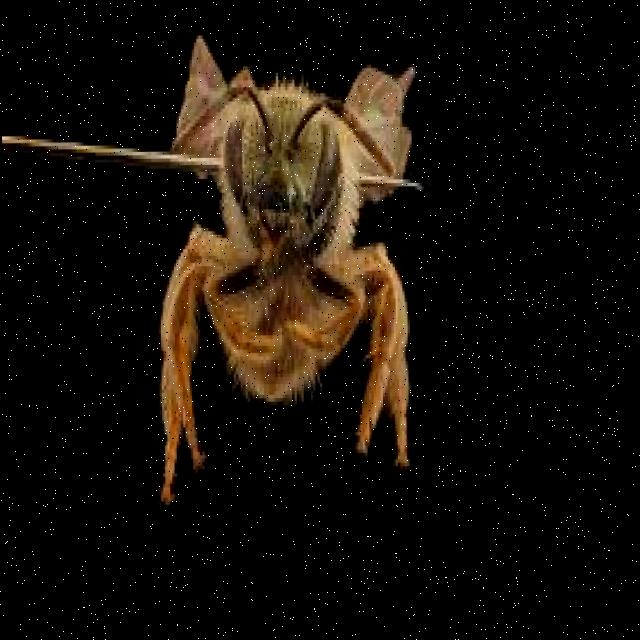Seladonia: (97, 29, 461, 501)
